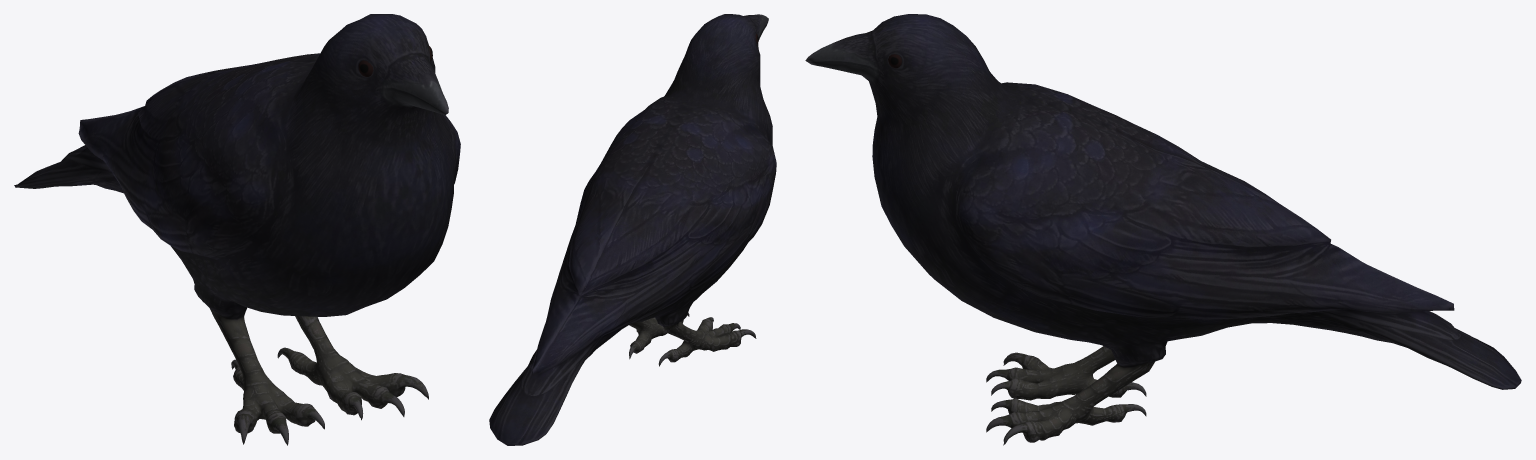
The model's file is crow.glb.
The picture shows the model from 3 angles, left to right: view 1: azimuth 30°, elevation 25°; view 2: azimuth 150°, elevation 25°; view 3: azimuth 270°, elevation 25°; orthographic projection. The views are drawn at different scales.
Visible parts, largest first — view 1: Box001; view 2: Box001; view 3: Box001.
Part boxes in pixels (bbox=[...]): Box001: bbox=[14, 14, 460, 445]; Box001: bbox=[489, 14, 776, 445]; Box001: bbox=[805, 14, 1521, 445].
Size of the model in its own units: 0.6759 by 1.21 by 2.
1 material, 1 textured.
